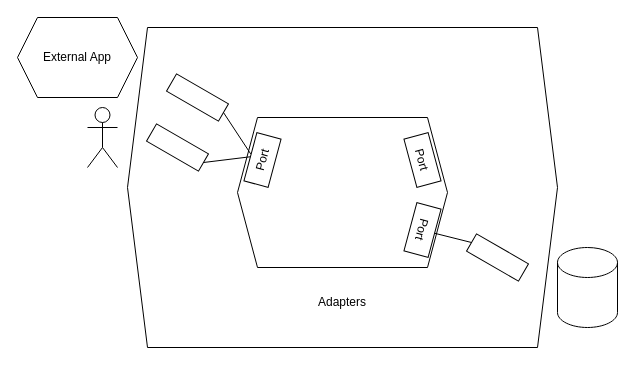
This 635x365 diagram has some shape labels left out. The shapes that lost their labels are listed below. From the top down, each one's box as (x1, y1, x2, y2) in pixels, then its label:
(86, 106, 118, 168): User
(236, 116, 448, 268): Application
(556, 246, 618, 328): DDBB
